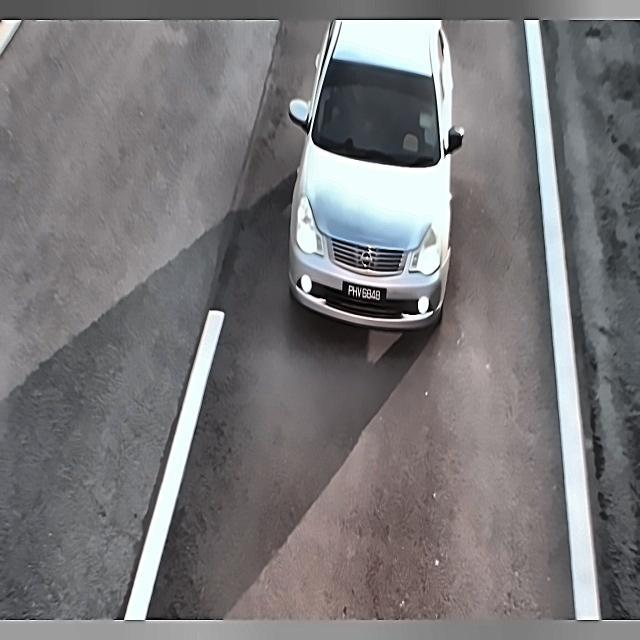car: (342, 274, 387, 312)
